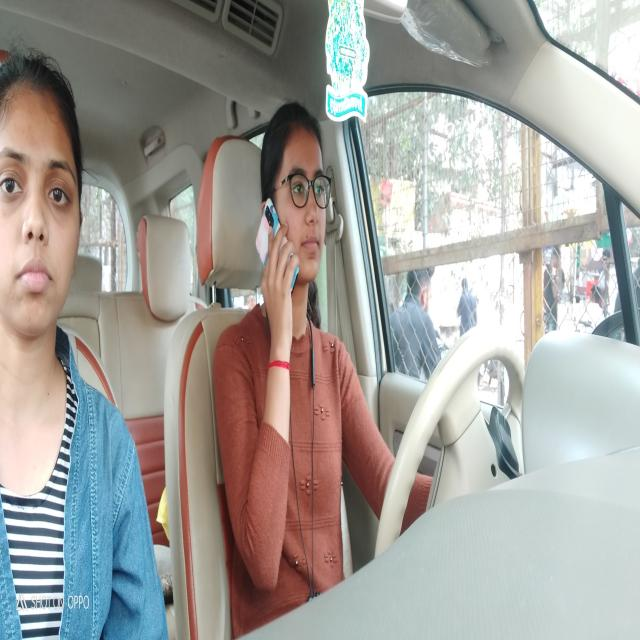mobile: (256, 198, 300, 306)
person: (0, 50, 90, 391), (258, 97, 333, 363)
